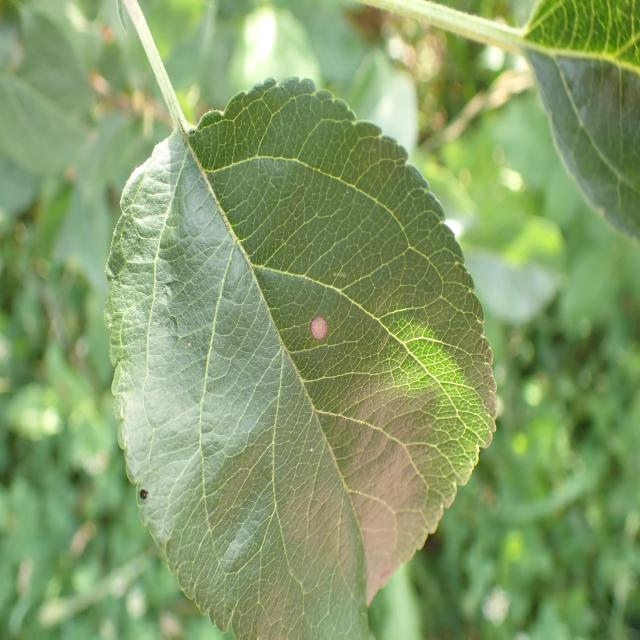Black Rot: (298, 290, 342, 359)
